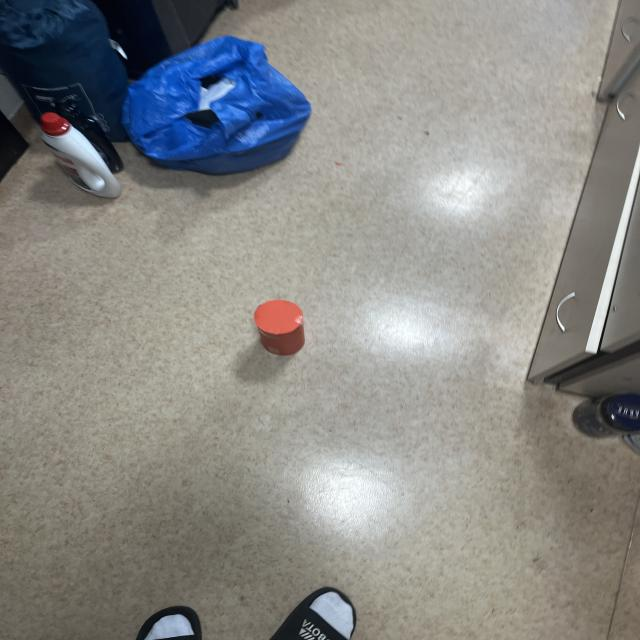przeszkoda: (254, 300, 305, 355)
